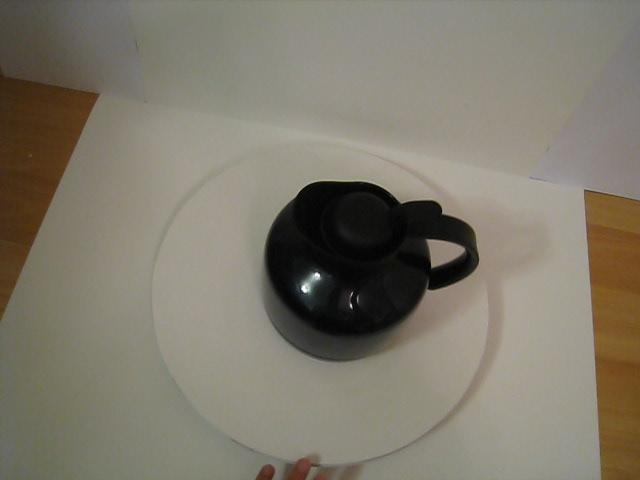pitcher: (262, 169, 484, 386)
